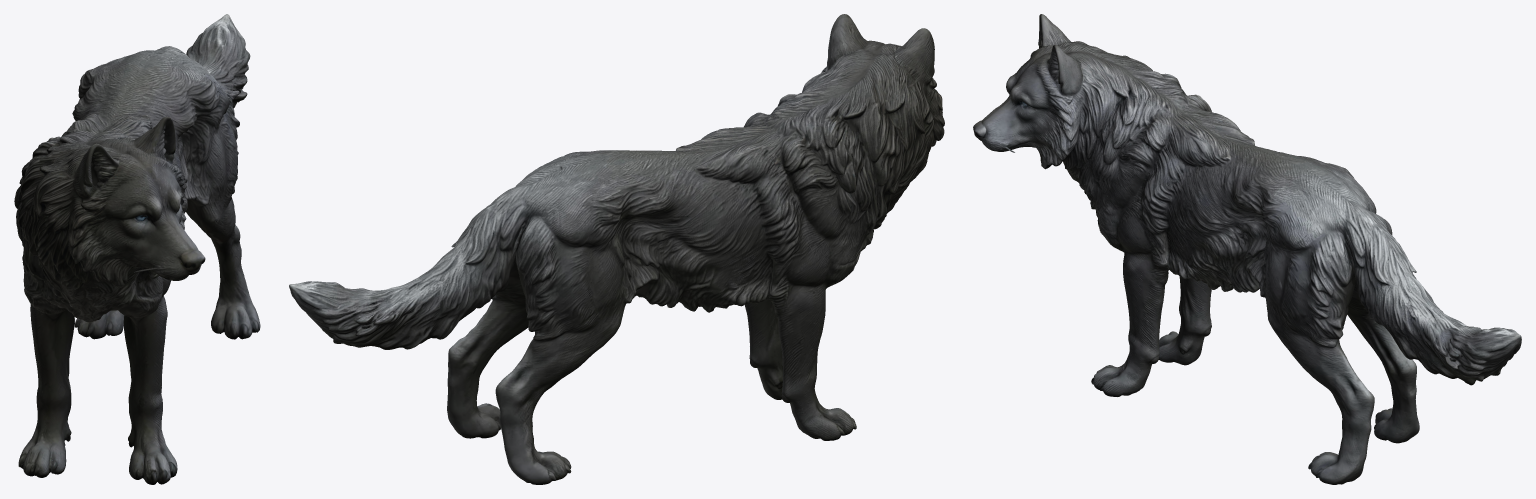
3 renders of one model, left to right at view 1: azimuth 30°, elevation 25°; view 2: azimuth 150°, elevation 25°; view 3: azimuth 270°, elevation 25°, orthographic. The views are drawn at different scales.
Parts seen in each view (by area): view 1: tripo_node_ccc68cf1-be4a-49e5-bb42-63cadf6740d1; view 2: tripo_node_ccc68cf1-be4a-49e5-bb42-63cadf6740d1; view 3: tripo_node_ccc68cf1-be4a-49e5-bb42-63cadf6740d1.
Part boxes in pixels (<box>): tripo_node_ccc68cf1-be4a-49e5-bb42-63cadf6740d1: <box>14,14,260,484</box>; tripo_node_ccc68cf1-be4a-49e5-bb42-63cadf6740d1: <box>289,14,944,484</box>; tripo_node_ccc68cf1-be4a-49e5-bb42-63cadf6740d1: <box>973,14,1521,484</box>.
Size of the model in its own units: 0.7816 by 0.6605 by 0.9786.
Materials: 1 (1 with a texture image).
